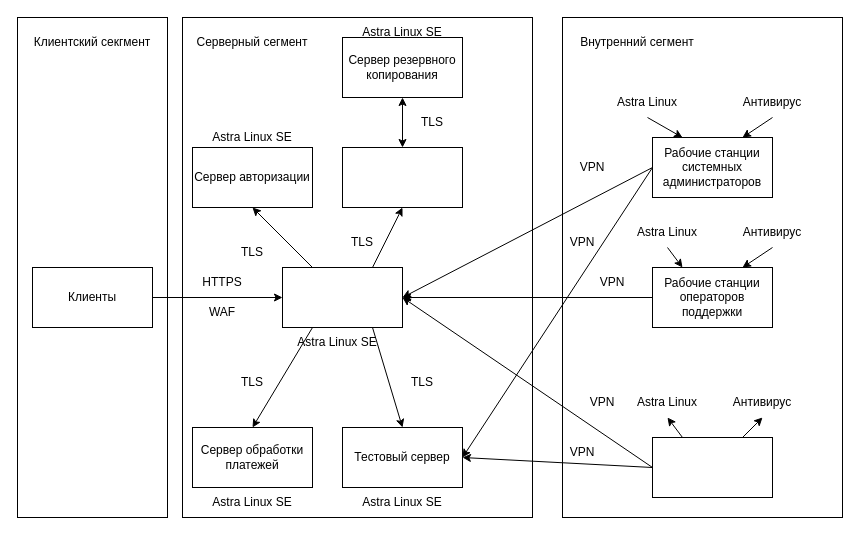
Some shapes in this 868 by 535 pixel diagram are drawn without their labels. The shapes that lost their labels are listed below. From the top down, each one's centre as x and y in pixels, then its label:
At (x=402, y=177): "База данных".
At (x=342, y=297): "Веб-сервер".
At (x=712, y=467): "Рабочие станции разработчиков".
